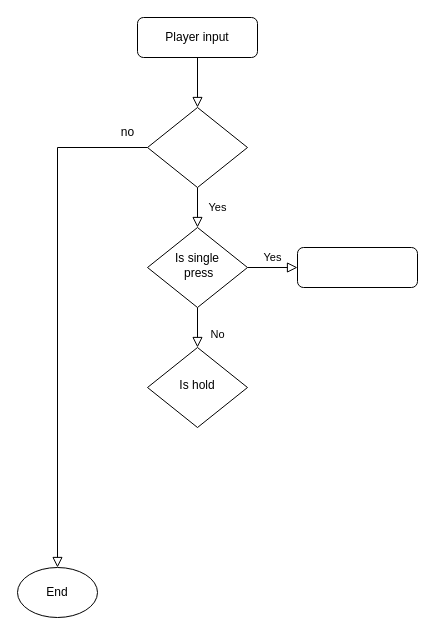
This 435x635 diagram has some shape labels left out. Here are the shapes that lost their labels. From the top down, the box of each, then its label:
(146, 106, 248, 188): Is there anything
(296, 246, 418, 288): Calculate single points
